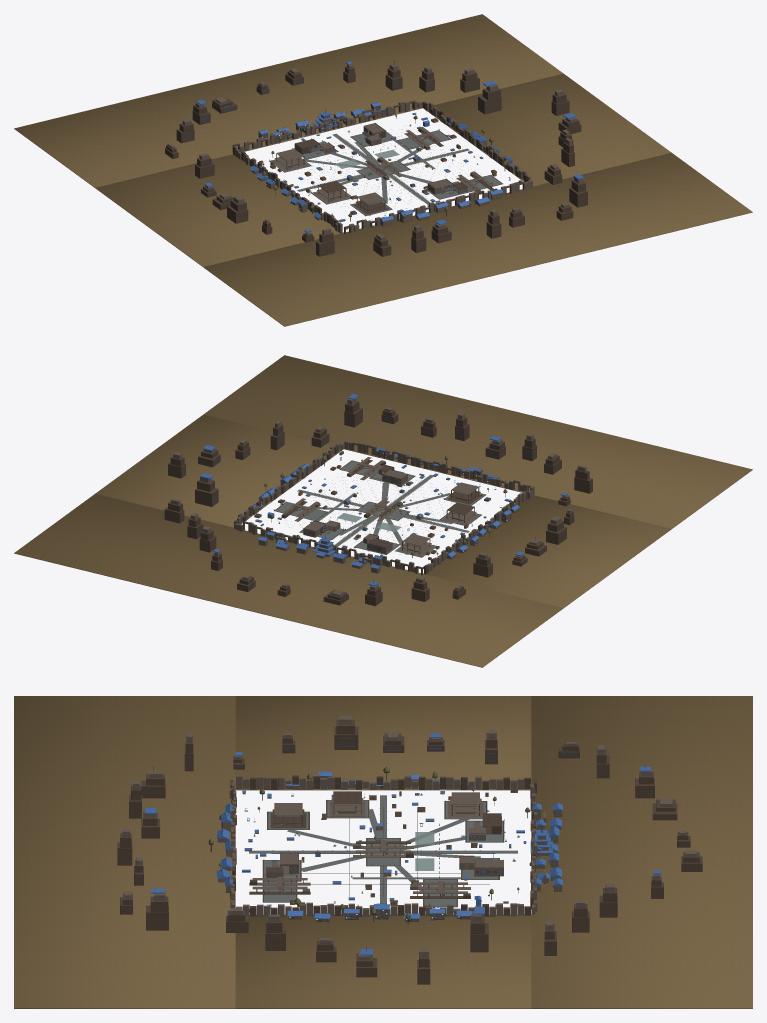
File: onsengai-lod0.glb
3 views of the same model, one above another, from view 1: azimuth 30°, elevation 25°; view 2: azimuth 150°, elevation 25°; view 3: azimuth 270°, elevation 25° (orthographic). The views are drawn at different scales.
Parts seen in each view (by area): view 1: HB_onsengai_LOD0_terrain, HB_onsengai_LOD0_wall_alt, HB_onsengai_LOD0_wall, HB_onsengai_LOD0_road, HB_onsengai_LOD0_accent, HB_onsengai_LOD0_obstacle; view 2: HB_onsengai_LOD0_terrain, HB_onsengai_LOD0_wall_alt, HB_onsengai_LOD0_wall, HB_onsengai_LOD0_road, HB_onsengai_LOD0_accent; view 3: HB_onsengai_LOD0_terrain, HB_onsengai_LOD0_wall_alt, HB_onsengai_LOD0_wall, HB_onsengai_LOD0_road, HB_onsengai_LOD0_accent, HB_onsengai_LOD0_trim, HB_onsengai_LOD0_glass, HB_onsengai_LOD0_obstacle.
Part boxes in pixels (x1,y1,x2,y2): HB_onsengai_LOD0_terrain: (14, 14, 752, 326); HB_onsengai_LOD0_wall_alt: (165, 66, 587, 256); HB_onsengai_LOD0_wall: (167, 63, 583, 240); HB_onsengai_LOD0_road: (269, 130, 509, 216); HB_onsengai_LOD0_accent: (196, 61, 583, 232); HB_onsengai_LOD0_obstacle: (261, 114, 520, 229); HB_onsengai_LOD0_terrain: (14, 355, 752, 667); HB_onsengai_LOD0_wall_alt: (164, 401, 592, 606); HB_onsengai_LOD0_wall: (171, 398, 586, 596); HB_onsengai_LOD0_road: (275, 459, 501, 557); HB_onsengai_LOD0_accent: (200, 394, 567, 586); HB_onsengai_LOD0_terrain: (14, 696, 752, 1008); HB_onsengai_LOD0_wall_alt: (117, 719, 702, 984); HB_onsengai_LOD0_wall: (122, 715, 696, 959); HB_onsengai_LOD0_road: (244, 794, 519, 908); HB_onsengai_LOD0_accent: (145, 733, 661, 955); HB_onsengai_LOD0_trim: (153, 765, 645, 951); HB_onsengai_LOD0_glass: (133, 738, 596, 920); HB_onsengai_LOD0_obstacle: (242, 790, 525, 912).
Size of the model in its own units: 700 by 39.29 by 700.
Materials: 11 (8 with a texture image).
